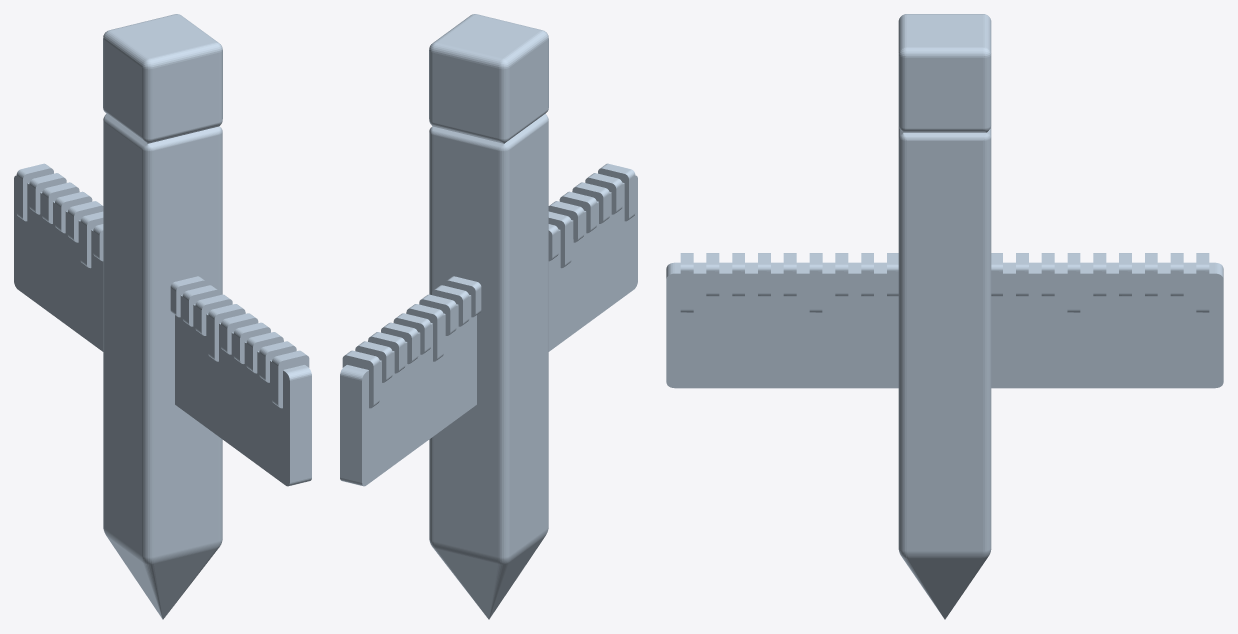
The model's file is visual_design.gltf.
The picture shows the model from 3 angles, left to right: view 1: azimuth 30°, elevation 25°; view 2: azimuth 150°, elevation 25°; view 3: azimuth 270°, elevation 25°; orthographic projection.
Visible parts, largest first — view 1: pen, ruler, ruler_guides; view 2: pen, ruler, ruler_guides; view 3: pen, ruler, ruler_guides.
Part boxes in pixels (<box>): pen: <box>103,14,222,619</box>; ruler: <box>14,175,311,486</box>; ruler_guides: <box>16,163,309,408</box>; pen: <box>429,14,548,619</box>; ruler: <box>340,175,637,486</box>; ruler_guides: <box>342,163,635,408</box>; pen: <box>898,14,991,619</box>; ruler: <box>666,262,1223,388</box>; ruler_guides: <box>680,253,1209,312</box>.
Bounding box in the file's own units: 0.72 × 5.04 × 4.32.
